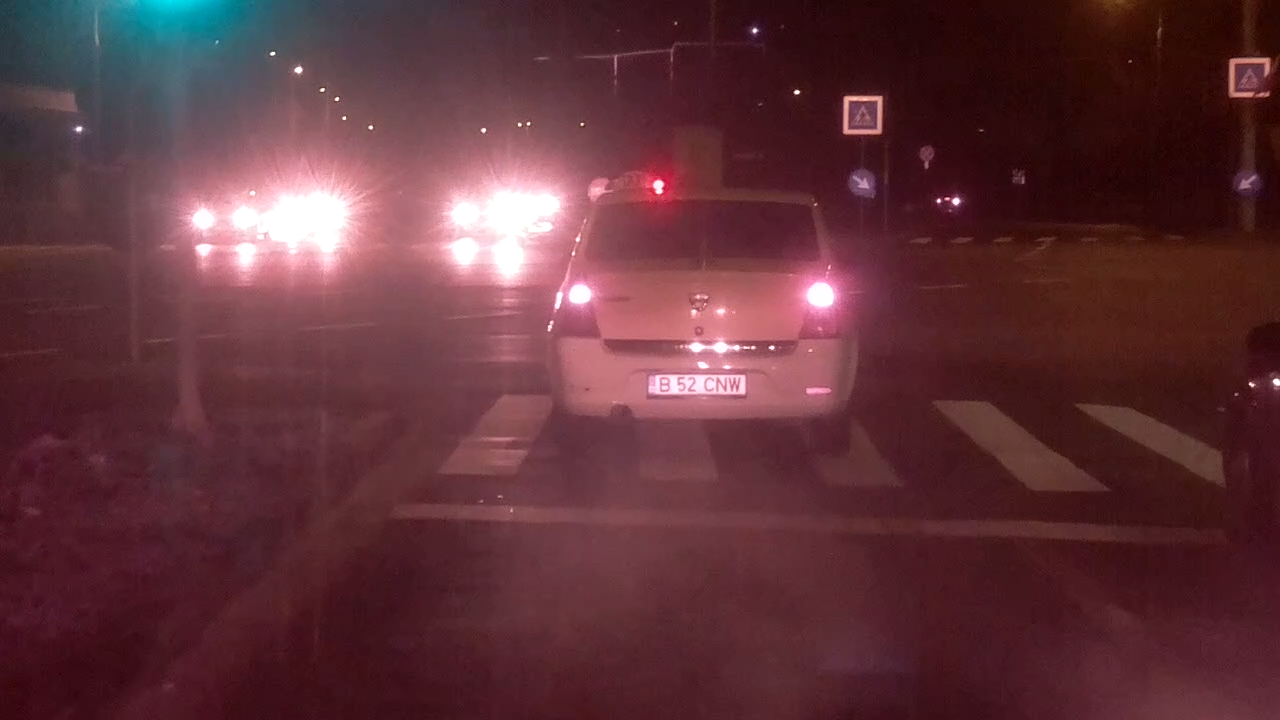license-plate: (641, 368, 752, 401)
